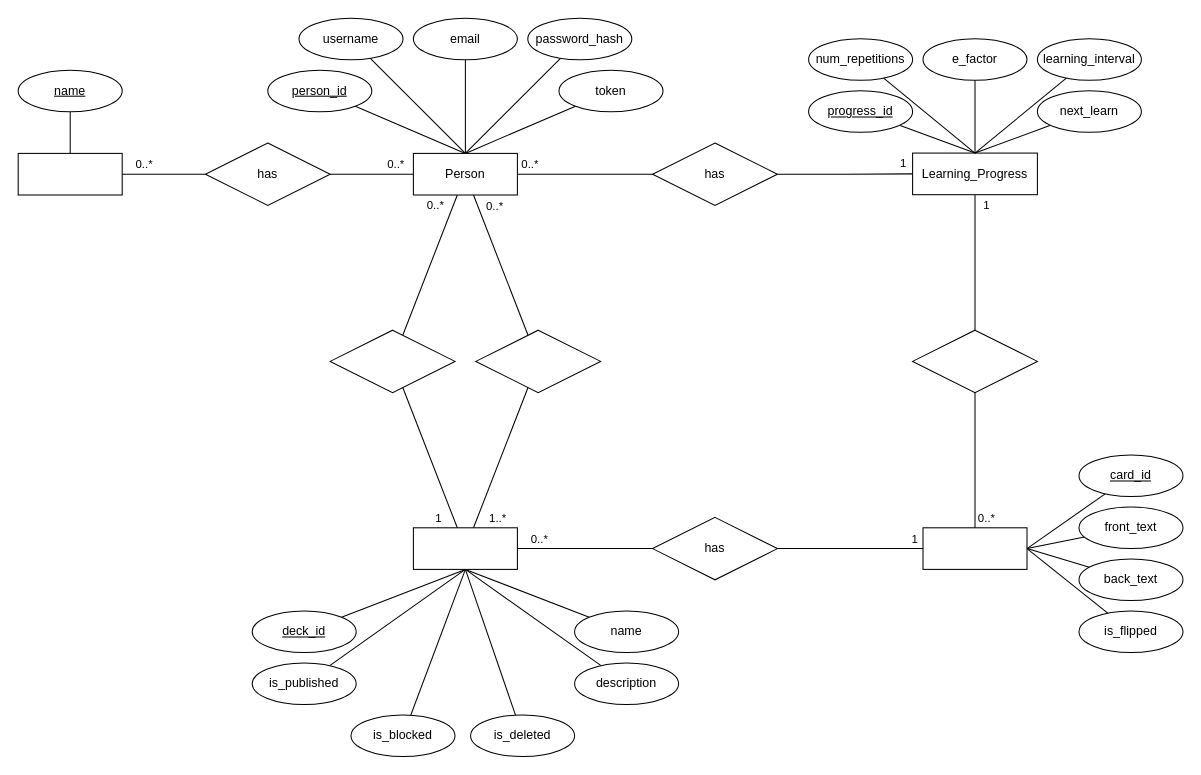
Some shapes in this 1201 by 775 pixel diagram are drawn without their labels. Here are the shapes that lost their labels. From the top down, the box of each, then its label:
(17, 152, 122, 195): Permission
(329, 329, 455, 393): creates
(475, 329, 601, 393): sees
(912, 329, 1037, 393): of
(412, 527, 517, 569): Deck
(922, 527, 1027, 569): Card
